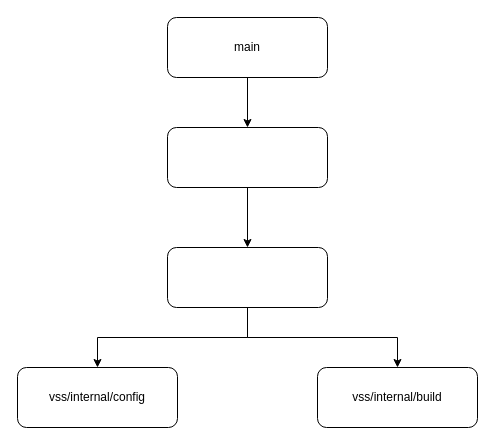
Image size: 495x445. Some labels were removed from this diagram. The centre of each missing label's shape, as x and y in pixels:
vss: point (247, 157)
vss/internal/command: point (247, 277)
